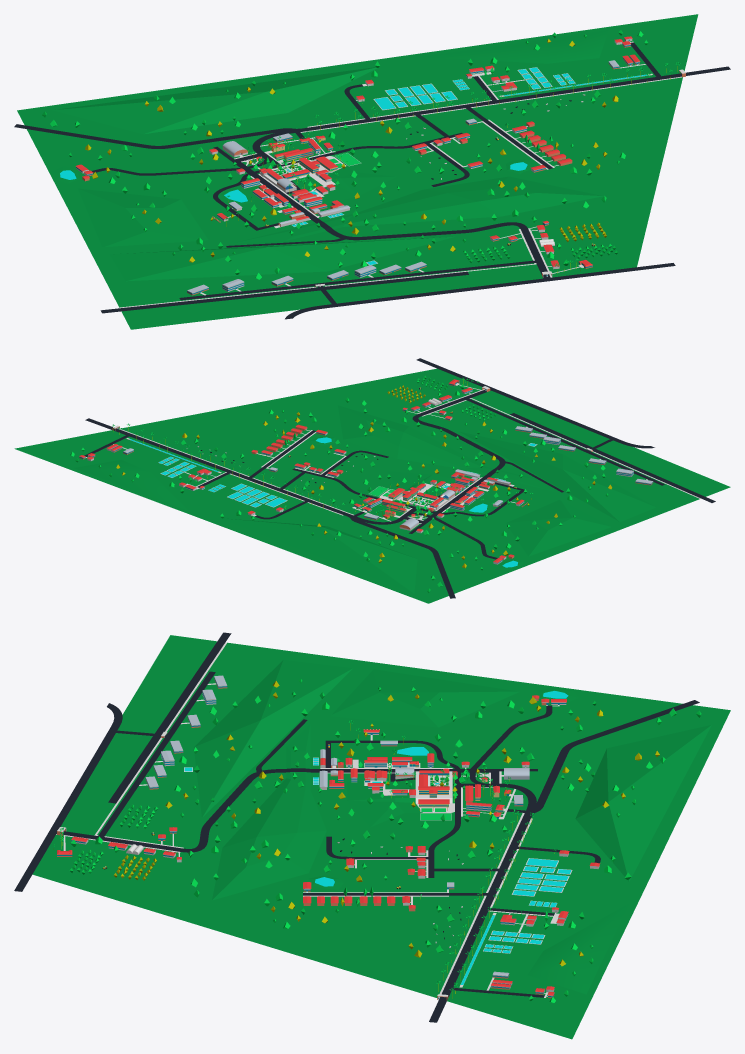
File: cmbn.glb
The picture shows the model from 3 angles, top to bottom: view 1: azimuth 30°, elevation 25°; view 2: azimuth 150°, elevation 25°; view 3: azimuth 270°, elevation 25°; orthographic projection. The views are drawn at different scales.
Parts seen in each view (by area): view 1: cmbnmetre.000_greenbase, cmbnmemou.002, cmbnmemou.003, cmbn_pav-002.005, cmbnmemou.001, cmbnmemou, cmbnmepav.024, cmbnmeroa, cmbnmeroa.041, cmbnmeroa.038, cmbnmeroa.037, cmbnmeroa.023 (+1 smaller); view 2: cmbnmetre.000_greenbase, cmbnmemou.002, cmbnmemou.003, cmbn_pav-002.005, cmbnmemou.001, cmbnmemou, cmbnmepav.024, cmbnmeroa, cmbnmeroa.041, cmbnmeroa.038, cmbnmeroa.037; view 3: cmbnmetre.000_greenbase, cmbnmemou.002, cmbnmemou.003, cmbn_pav-002.005, cmbnmemou.001, cmbnmemou, cmbnmepav.024, cmbnmeroa, cmbnmeroa.041, cmbnmeroa.038, cmbnmeroa.037.
Part boxes in pixels (<box>): cmbnmetre.000_greenbase: <box>17,14,698,329</box>; cmbnmemou.002: <box>52,66,380,134</box>; cmbnmemou.003: <box>110,236,454,281</box>; cmbn_pav-002.005: <box>233,176,603,243</box>; cmbnmemou.001: <box>78,188,208,246</box>; cmbnmemou: <box>422,30,608,63</box>; cmbnmepav.024: <box>259,156,396,204</box>; cmbnmeroa: <box>290,66,730,133</box>; cmbnmeroa.041: <box>100,271,468,313</box>; cmbnmeroa.038: <box>324,263,675,308</box>; cmbnmeroa.037: <box>179,260,535,300</box>; cmbnmeroa.023: <box>236,161,332,230</box>; cmbnmetre.000_greenbase: <box>14,368,730,603</box>; cmbnmemou.002: <box>219,518,417,593</box>; cmbnmemou.003: <box>459,431,655,521</box>; cmbn_pav-002.005: <box>338,405,555,491</box>; cmbnmemou.001: <box>506,500,610,556</box>; cmbnmemou: <box>74,459,187,510</box>; cmbnmepav.024: <box>379,471,455,510</box>; cmbnmeroa: <box>85,418,357,518</box>; cmbnmeroa.041: <box>510,413,715,502</box>; cmbnmeroa.038: <box>416,358,621,441</box>; cmbnmeroa.037: <box>466,398,664,485</box>; cmbnmetre.000_greenbase: <box>32,635,730,1039</box>; cmbnmemou.002: <box>575,725,711,881</box>; cmbnmemou.003: <box>194,660,352,817</box>; cmbn_pav-002.005: <box>212,724,326,900</box>; cmbnmemou.001: <box>331,669,519,727</box>; cmbnmemou: <box>528,904,628,994</box>; cmbnmepav.024: <box>347,771,454,827</box>; cmbnmeroa: <box>429,809,534,1022</box>; cmbnmeroa.041: <box>108,632,231,803</box>; cmbnmeroa.038: <box>14,726,119,891</box>; cmbnmeroa.037: <box>98,671,215,836</box>.
Bounding box in the file's own units: 18.22 × 0.4236 × 13.56.
